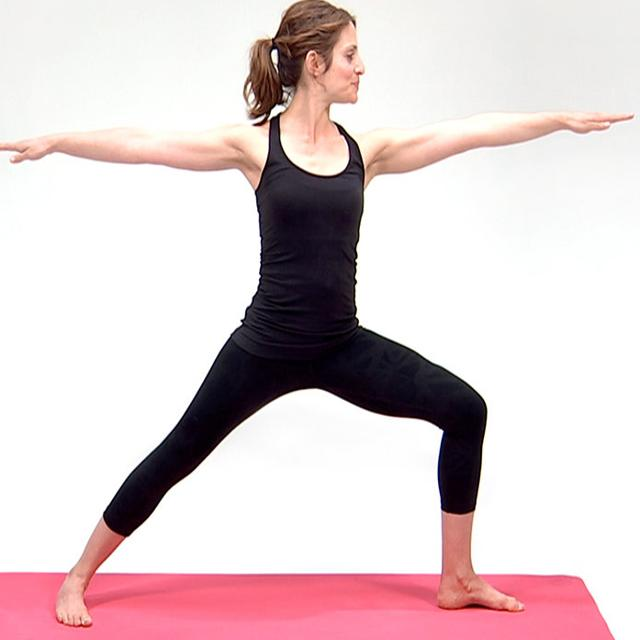Warrior_II: (2, 5, 635, 626)
